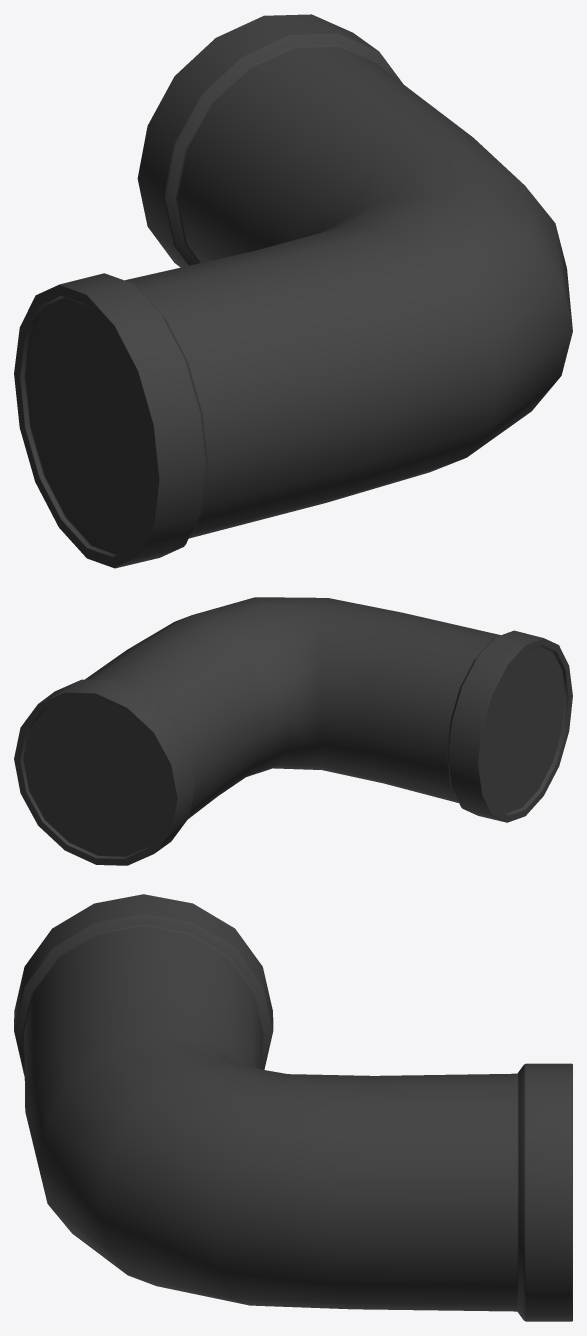
The model's file is colony_Connecting_gateway_corner.glb.
3 renders of one model, top to bottom at view 1: azimuth 30°, elevation 25°; view 2: azimuth 150°, elevation 25°; view 3: azimuth 270°, elevation 25°, orthographic. The views are drawn at different scales.
Visible parts, largest first — view 1: Connecting_gateway_corner; view 2: Connecting_gateway_corner; view 3: Connecting_gateway_corner.
Part boxes in pixels (box(x1,y1,x2,y2)): Connecting_gateway_corner: box(14, 14, 572, 568); Connecting_gateway_corner: box(14, 597, 572, 865); Connecting_gateway_corner: box(14, 894, 572, 1321).
Bounding box in the file's own units: 594 × 276 × 594.
1 material, 1 textured.
